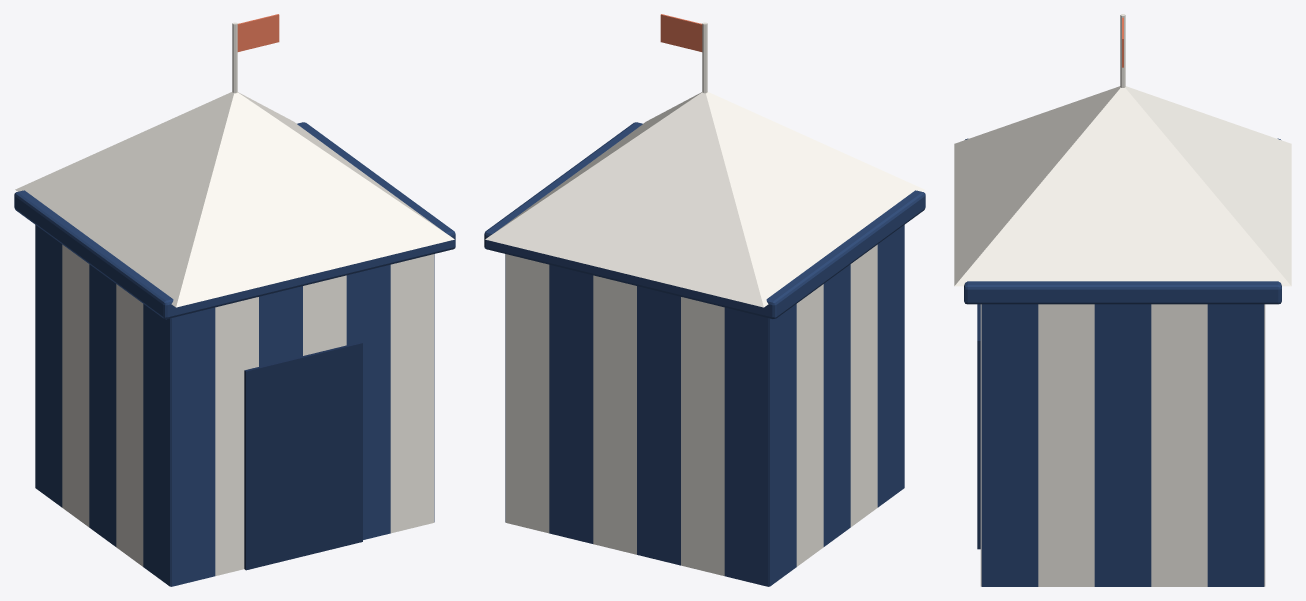
File: b_cabana_navy.gltf
3 renders of one model, left to right at view 1: azimuth 30°, elevation 25°; view 2: azimuth 150°, elevation 25°; view 3: azimuth 270°, elevation 25°, orthographic. The views are drawn at different scales.
Visible parts, largest first — view 1: b_cabana_navy; view 2: b_cabana_navy; view 3: b_cabana_navy.
Boxes of the visible parts, x1,y1,x2,y2 form: b_cabana_navy: (14,14,455,586); b_cabana_navy: (484,14,925,586); b_cabana_navy: (954,14,1291,586).
Size of the model in its own units: 2 by 3.15 by 1.91.
Materials: 1 (1 with a texture image).
